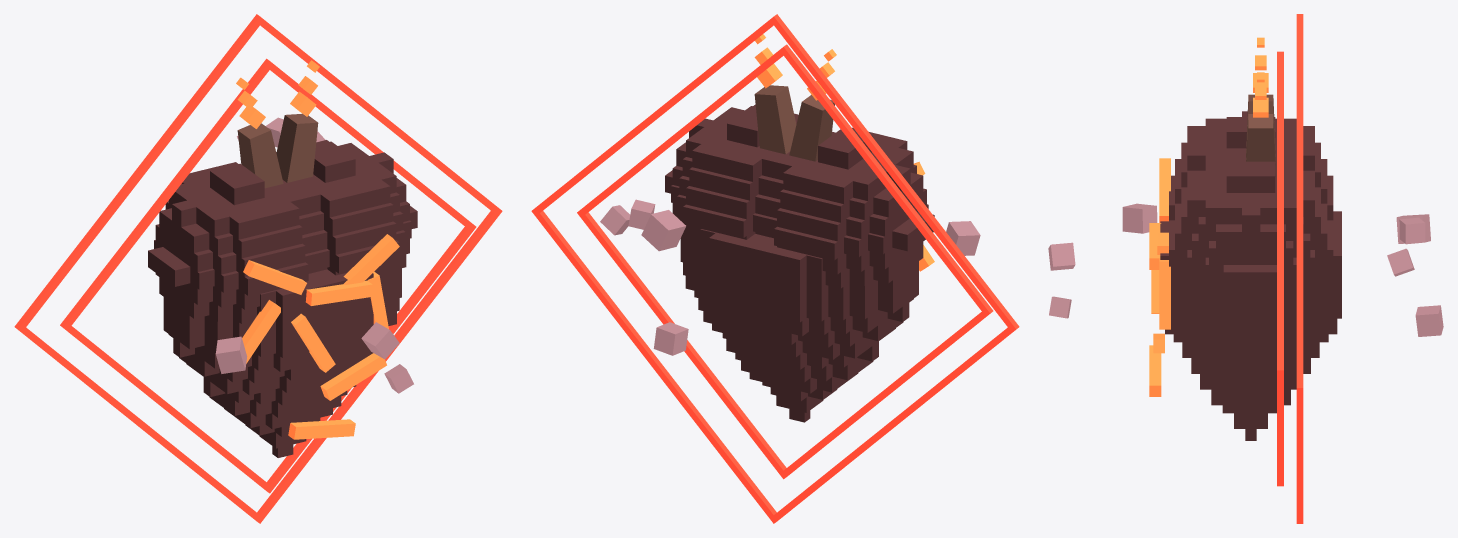
3 renders of one model, left to right at view 1: azimuth 30°, elevation 25°; view 2: azimuth 150°, elevation 25°; view 3: azimuth 270°, elevation 25°, orthographic.
Visible parts, largest first — view 1: R060_Main, R060_Aura_Pulse, R060_Glow, R060_Accent, R060_Spin_Rocks; view 2: R060_Main, R060_Aura_Pulse, R060_Accent, R060_Spin_Rocks, R060_Glow; view 3: R060_Main, R060_Aura_Pulse, R060_Glow, R060_Spin_Rocks, R060_Accent.
Boxes of the visible parts, left/top/right/bottom form: R060_Main: left=148, top=140, right=417, bottom=457; R060_Aura_Pulse: left=14, top=14, right=502, bottom=523; R060_Glow: left=236, top=60, right=399, bottom=439; R060_Accent: left=237, top=113, right=318, bottom=188; R060_Spin_Rocks: left=215, top=117, right=413, bottom=393; R060_Main: left=665, top=104, right=934, bottom=422; R060_Aura_Pulse: left=531, top=14, right=1019, bottom=523; R060_Accent: left=754, top=85, right=834, bottom=161; R060_Spin_Rocks: left=600, top=199, right=980, bottom=355; R060_Glow: left=754, top=34, right=934, bottom=271; R060_Main: left=1160, top=111, right=1341, bottom=440; R060_Aura_Pulse: left=1277, top=14, right=1303, bottom=523; R060_Glow: left=1149, top=37, right=1268, bottom=396; R060_Spin_Rocks: left=1048, top=203, right=1443, bottom=336; R060_Accent: left=1246, top=94, right=1275, bottom=176.
Size of the model in its own units: 2.88 by 2.88 by 2.02.
